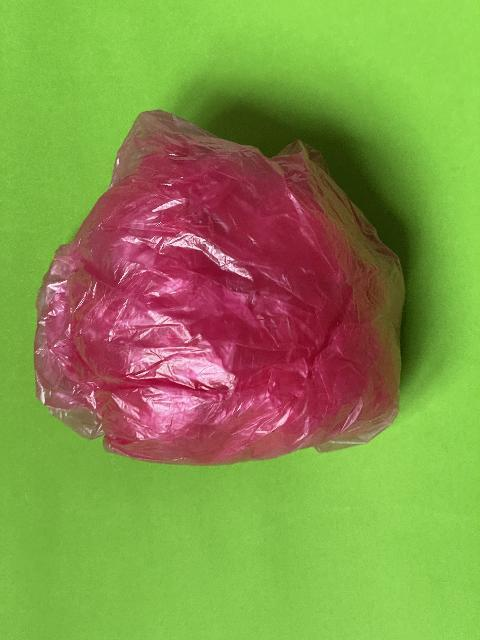plasticbag: (31, 108, 408, 470)
